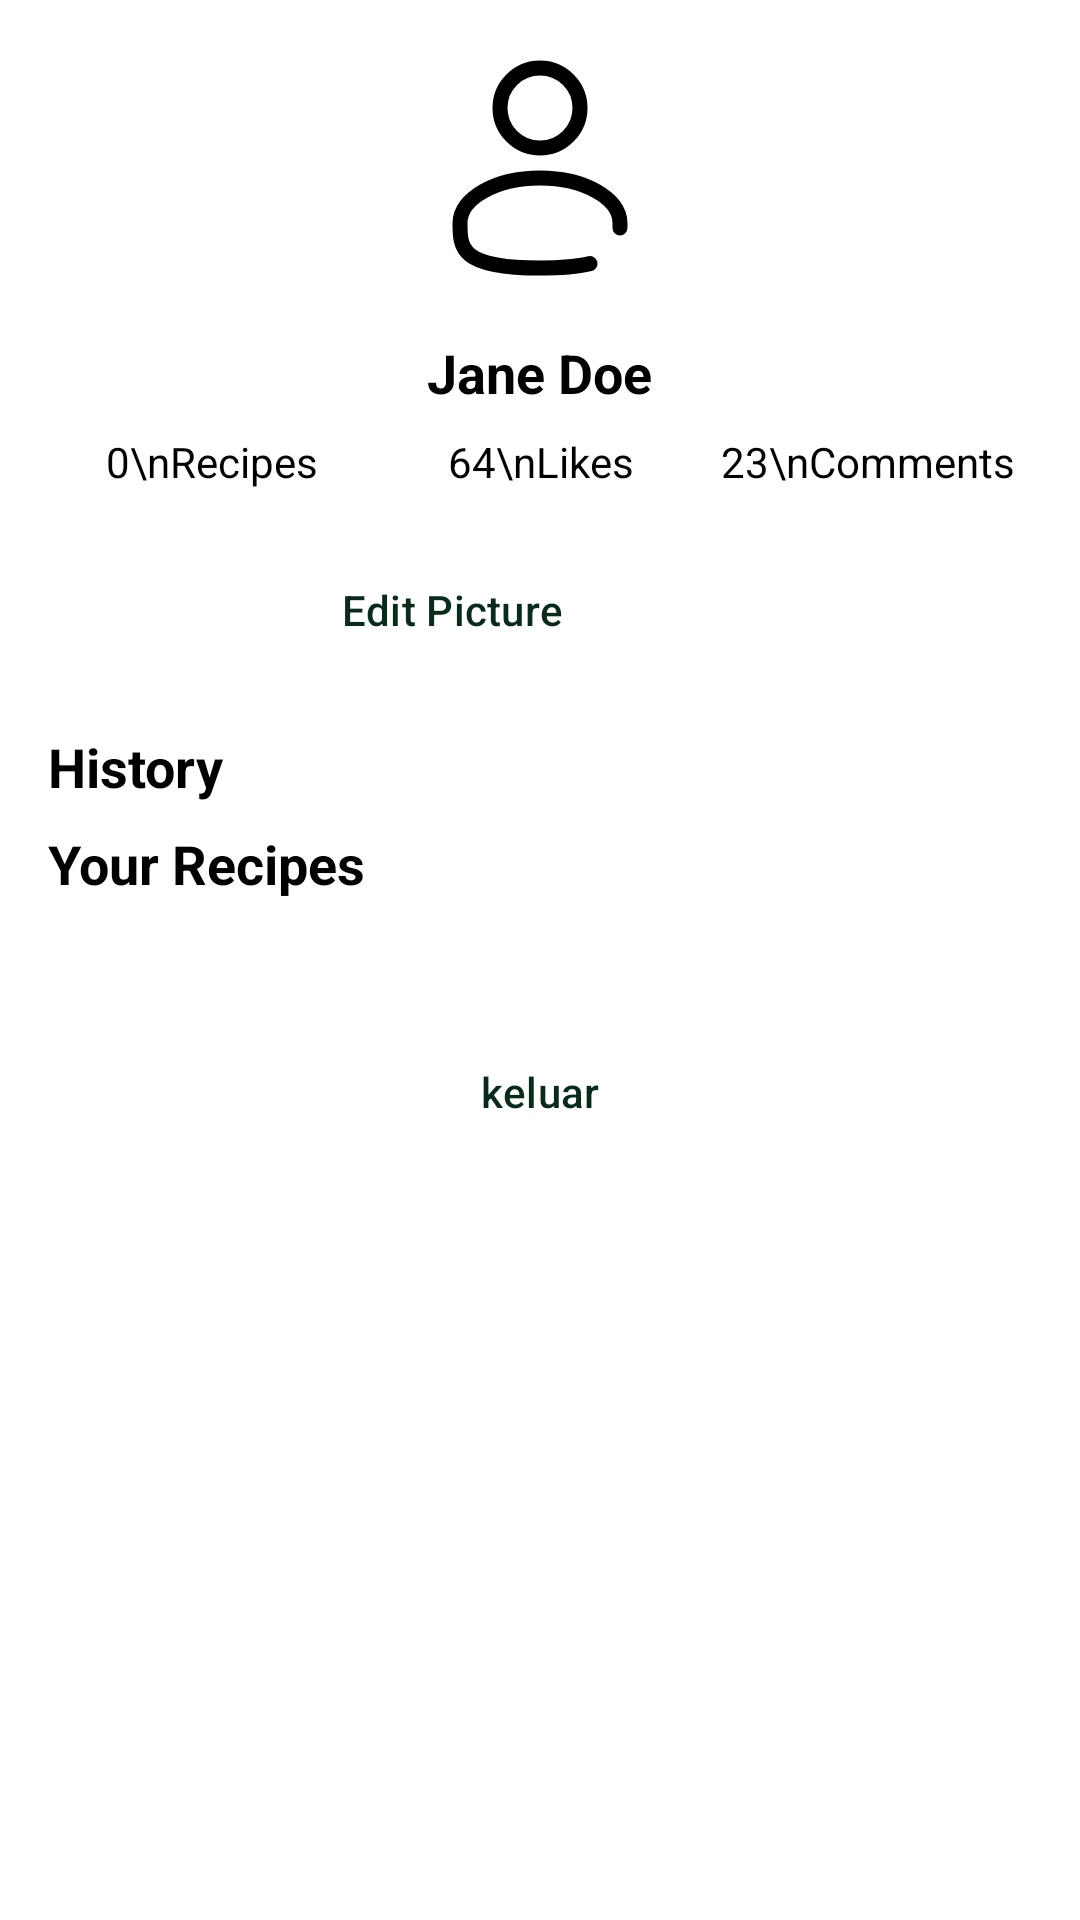

Point at icon controls on the screen. Image size 1080px×1920px, points as (x,y).
user: (540,168)
